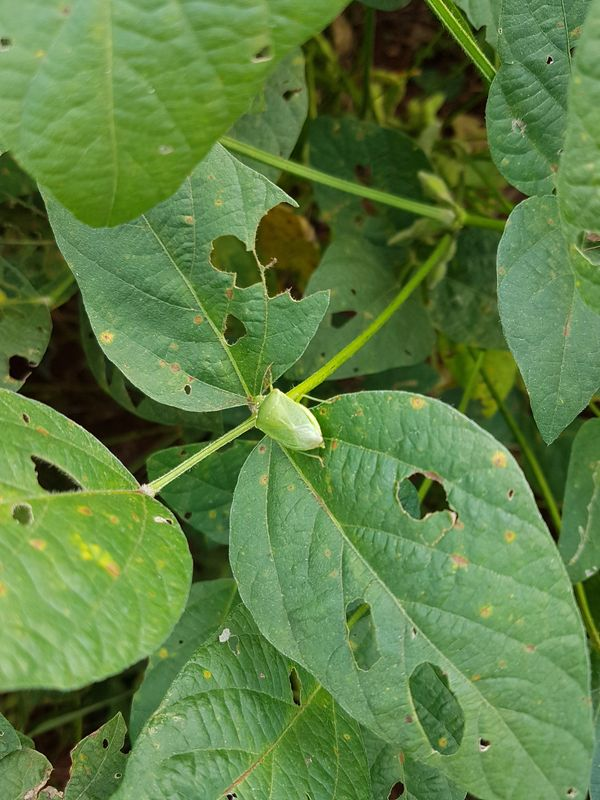Nezara_viridula_adulto: (225, 357, 347, 476)
